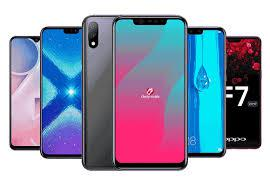Smartphone: (116, 15, 187, 169), (177, 26, 226, 157), (84, 17, 117, 170), (261, 36, 262, 36)
